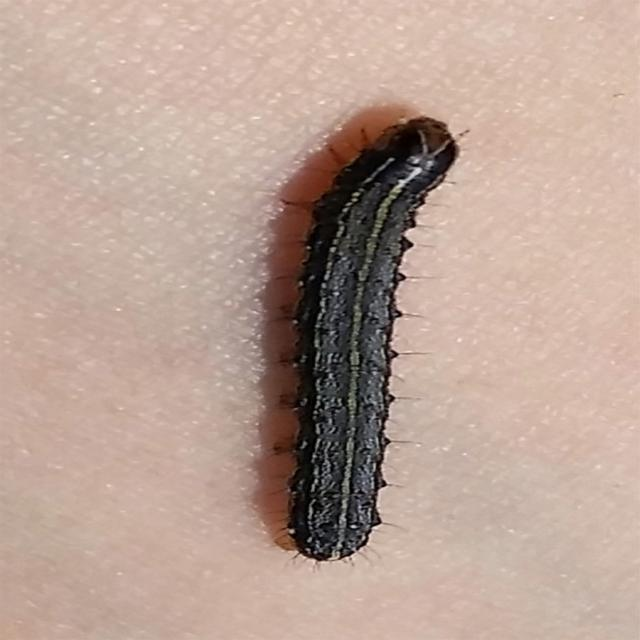armyworm: (257, 114, 469, 566)
